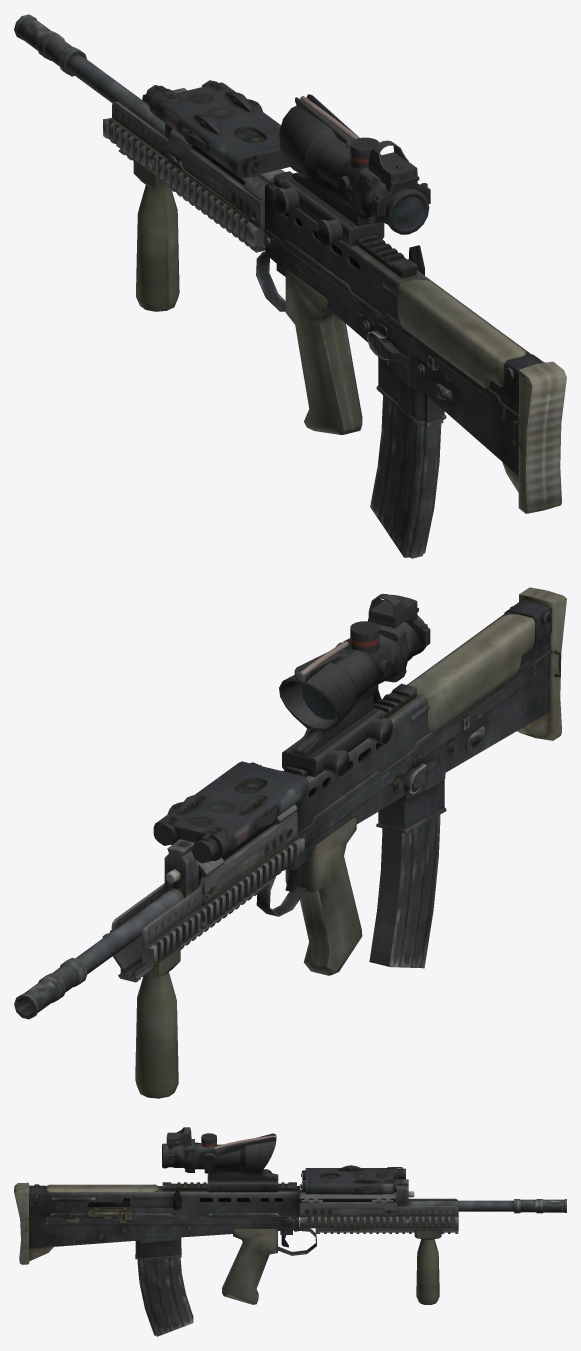
3 renders of one model, top to bottom at view 1: azimuth 30°, elevation 25°; view 2: azimuth 150°, elevation 25°; view 3: azimuth 270°, elevation 25°, orthographic. The views are drawn at different scales.
Parts seen in each view (by area): view 1: Main, GRIP, sight; view 2: Main, GRIP, sight; view 3: Main, GRIP, sight.
Boxes of the visible parts, <box> form: Main: <box>14,14,566,558</box>; GRIP: <box>103,80,289,311</box>; sight: <box>273,94,430,247</box>; Main: <box>14,587,566,1019</box>; GRIP: <box>102,761,309,1098</box>; sight: <box>279,593,430,777</box>; Main: <box>14,1179,566,1336</box>; GRIP: <box>299,1165,458,1304</box>; sight: <box>162,1127,278,1192</box>.
Size of the model in its own units: 7.43 by 32.76 by 79.69.
